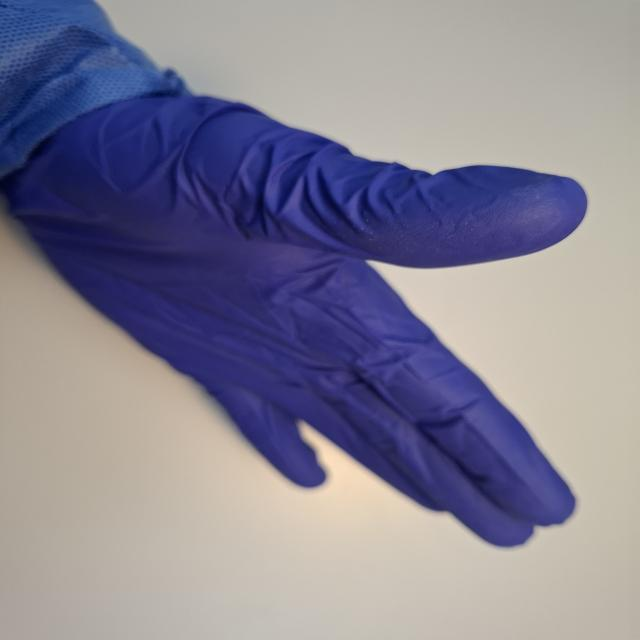glove_on: (5, 82, 595, 555)
